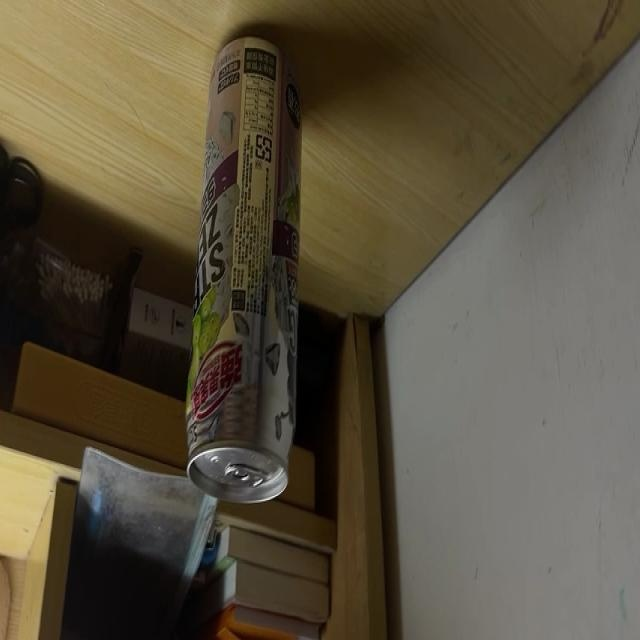Liquor: (185, 36, 298, 500)
